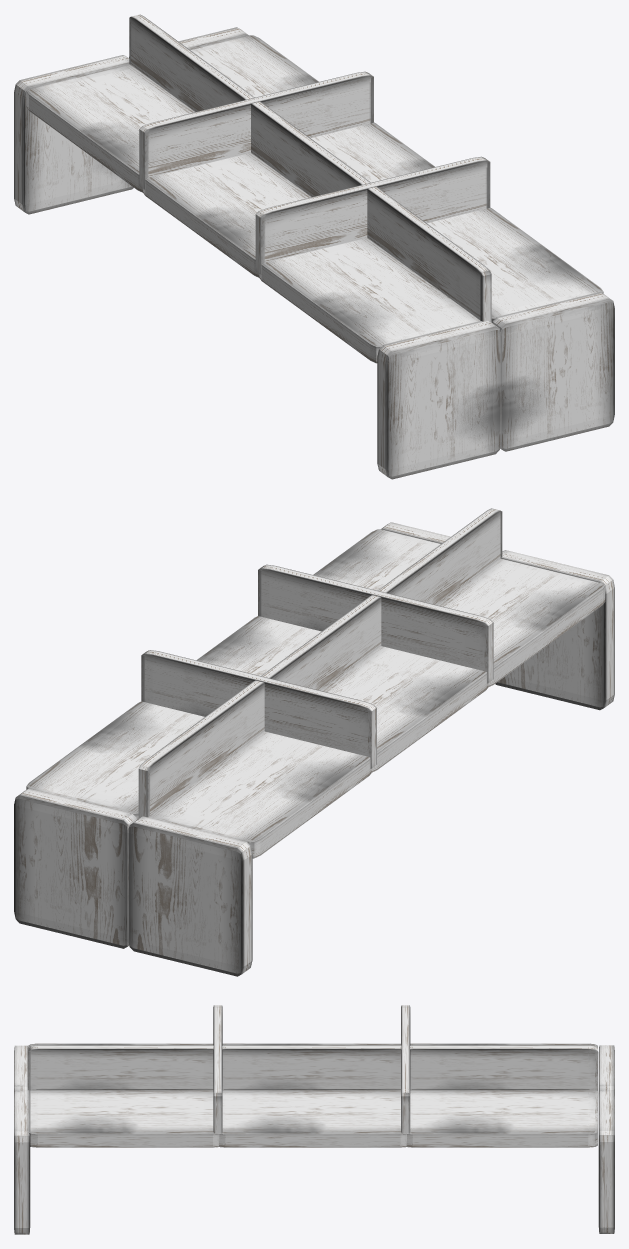
Rendered from Table_Merting.fbx.
The picture shows the model from 3 angles, top to bottom: view 1: azimuth 30°, elevation 25°; view 2: azimuth 150°, elevation 25°; view 3: azimuth 270°, elevation 25°; orthographic projection. The views are drawn at different scales.
Visible parts, largest first — view 1: Cube.036, Cube.035, Cube.025, Cube.042, Cube.043, Cube.031, Cube.029, Cube.038, Cube.032, Cube.041, Cube.040, Cube.039 (+3 smaller); view 2: Cube.038, Cube.037, Cube.031, Cube.043, Cube.042, Cube.025, Cube.029, Cube.034, Cube.036, Cube.040, Cube.041, Cube.039 (+2 smaller); view 3: Cube.034, Cube.032, Cube.033, Cube.040, Cube.041, Cube.039, Cube.037, Cube.035, Cube.042, Cube.043, Cube.038, Cube.036 (+3 smaller).
Boxes of the visible parts, left/top/right/bottom form: Cube.036: left=377, top=320, right=500, bottom=479; Cube.035: left=492, top=292, right=614, bottom=451; Cube.025: left=259, top=238, right=480, bottom=363; Cube.042: left=255, top=156, right=490, bottom=274; Cube.043: left=139, top=71, right=373, bottom=189; Cube.031: left=26, top=64, right=194, bottom=192; Cube.029: left=143, top=153, right=311, bottom=277; Cube.038: left=14, top=55, right=133, bottom=214; Cube.032: left=427, top=207, right=603, bottom=322; Cube.041: left=367, top=186, right=491, bottom=322; Cube.040: left=129, top=14, right=254, bottom=111; Cube.039: left=251, top=101, right=370, bottom=196; Cube.038: left=128, top=816, right=252, bottom=976; Cube.037: left=14, top=788, right=136, bottom=948; Cube.031: left=148, top=731, right=371, bottom=858; Cube.043: left=141, top=650, right=376, bottom=768; Cube.042: left=258, top=564, right=493, bottom=683; Cube.025: left=437, top=558, right=605, bottom=687; Cube.029: left=321, top=646, right=488, bottom=772; Cube.034: left=26, top=701, right=204, bottom=819; Cube.036: left=495, top=550, right=614, bottom=710; Cube.040: left=138, top=680, right=264, bottom=817; Cube.041: left=378, top=508, right=502, bottom=604; Cube.039: left=261, top=595, right=381, bottom=690; Cube.034: left=406, top=1089, right=597, bottom=1147; Cube.032: left=29, top=1089, right=218, bottom=1147; Cube.033: left=219, top=1089, right=406, bottom=1147; Cube.040: left=410, top=1045, right=597, bottom=1090; Cube.041: left=27, top=1045, right=213, bottom=1090; Cube.039: left=222, top=1045, right=401, bottom=1089; Cube.037: left=598, top=1090, right=614, bottom=1233; Cube.035: left=14, top=1090, right=30, bottom=1234; Cube.042: left=213, top=1005, right=222, bottom=1141; Cube.043: left=401, top=1005, right=410, bottom=1141; Cube.038: left=598, top=1045, right=614, bottom=1095; Cube.036: left=14, top=1045, right=29, bottom=1094.
Bounding box in the file's own units: 115 × 83.78 × 320.
Materials: 1 (1 with a texture image).
